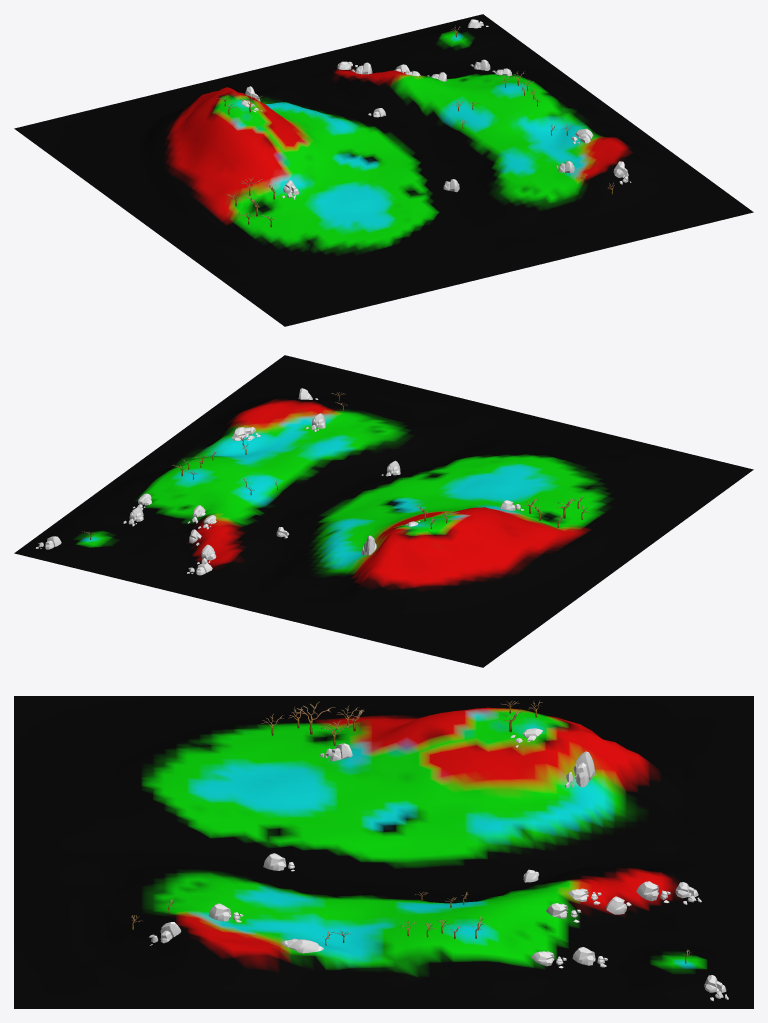
The model's file is terrain-complete.glb.
3 renders of one model, top to bottom at view 1: azimuth 30°, elevation 25°; view 2: azimuth 150°, elevation 25°; view 3: azimuth 270°, elevation 25°, orthographic. The views are drawn at different scales.
Visible parts, largest first — view 1: Plane; view 2: Plane; view 3: Plane, rock.011.
Part boxes in pixels (x1=…): Plane: x1=14, y1=14, x2=753, y2=326; Plane: x1=14, y1=355, x2=753, y2=667; Plane: x1=14, y1=696, x2=753, y2=1008; rock.011: x1=565, y1=751, x2=595, y2=787.
Size of the model in its own units: 300 by 37.46 by 300.
2 materials, 1 textured.
